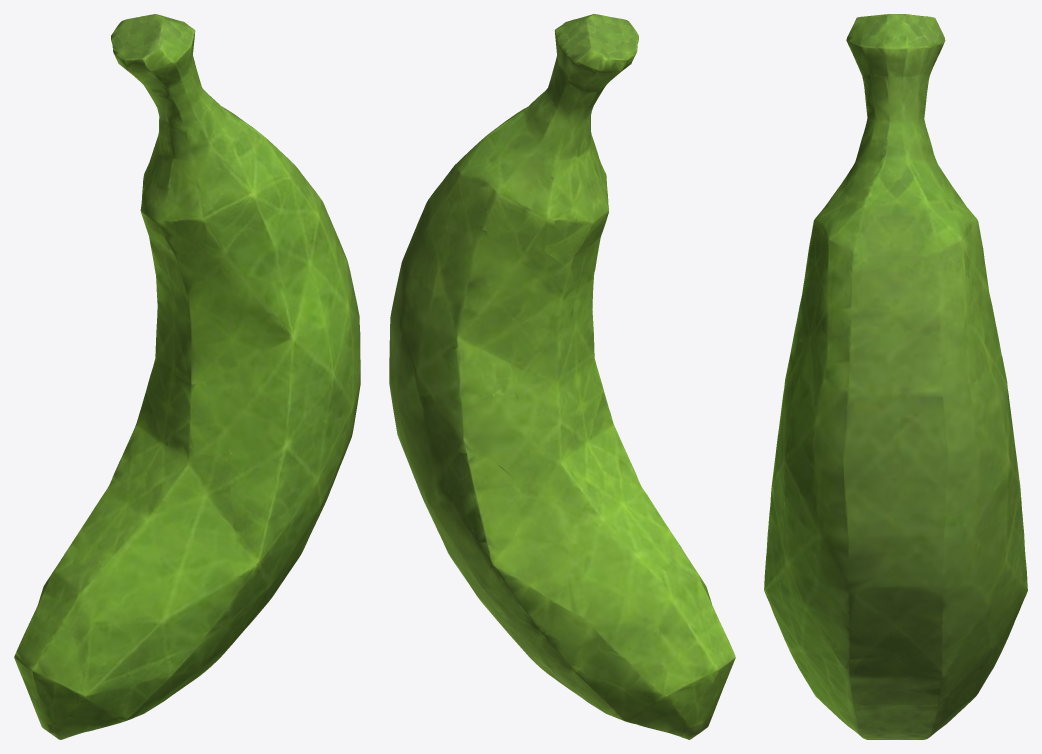
The model's file is bananasims_otimizada.glb.
The picture shows the model from 3 angles, left to right: view 1: azimuth 30°, elevation 25°; view 2: azimuth 150°, elevation 25°; view 3: azimuth 270°, elevation 25°; orthographic projection. The views are drawn at different scales.
Parts seen in each view (by area): view 1: Mesh_0; view 2: Mesh_0; view 3: Mesh_0.
Part boxes in pixels (bbox=[...]): Mesh_0: bbox=[14, 14, 360, 739]; Mesh_0: bbox=[389, 14, 735, 739]; Mesh_0: bbox=[764, 14, 1027, 739].
Bounding box in the file's own units: 0.9003 × 1.9 × 0.6003.
Materials: 1 (1 with a texture image).
